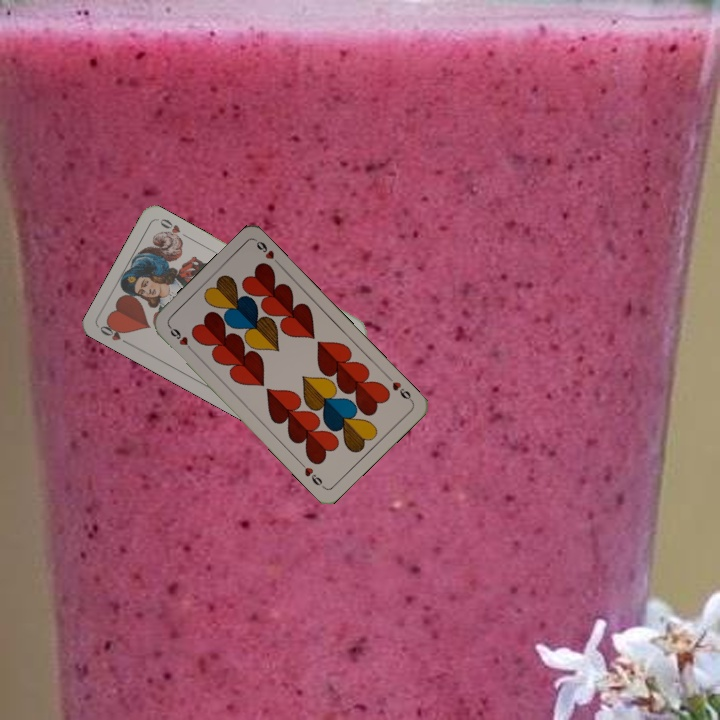H9: (383, 372, 415, 405), (165, 322, 196, 355)
HO: (96, 319, 133, 348)
